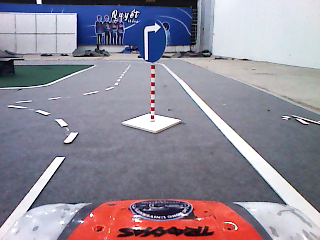turn: (136, 19, 168, 64)
